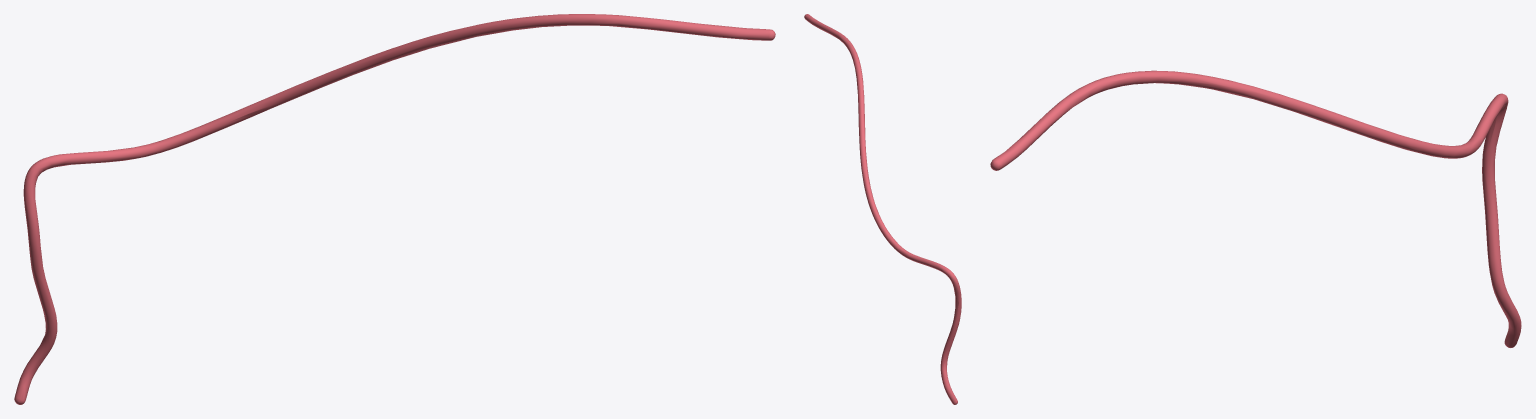
The model's file is fma50859_fj2302.glb.
3 renders of one model, left to right at view 1: azimuth 30°, elevation 25°; view 2: azimuth 150°, elevation 25°; view 3: azimuth 270°, elevation 25°, orthographic. The views are drawn at different scales.
Visible parts, largest first — view 1: FMA50859_FJ2302; view 2: FMA50859_FJ2302; view 3: FMA50859_FJ2302.
Boxes of the visible parts, x1,y1,x2,y2 form: FMA50859_FJ2302: (14,14,775,404); FMA50859_FJ2302: (804,14,961,404); FMA50859_FJ2302: (990,70,1521,347).
Bounding box in the file's own units: 0.0761 × 0.0608 × 0.0622.
